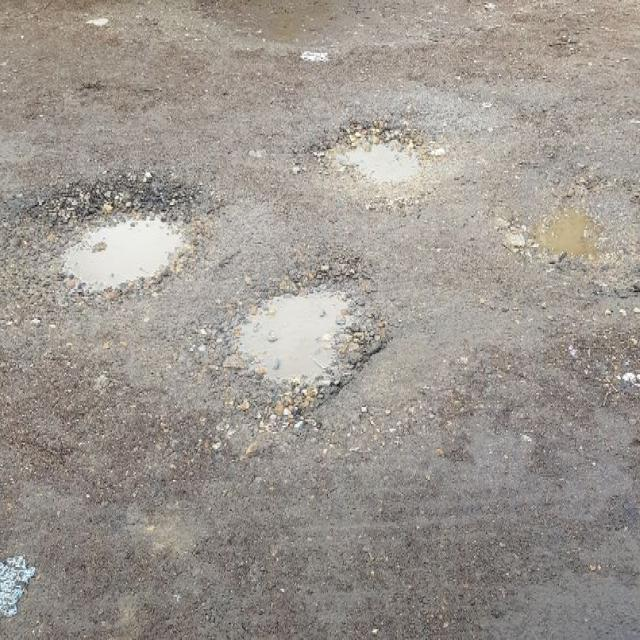pothole: (219, 245, 393, 420), (28, 168, 216, 303), (312, 112, 434, 195)
